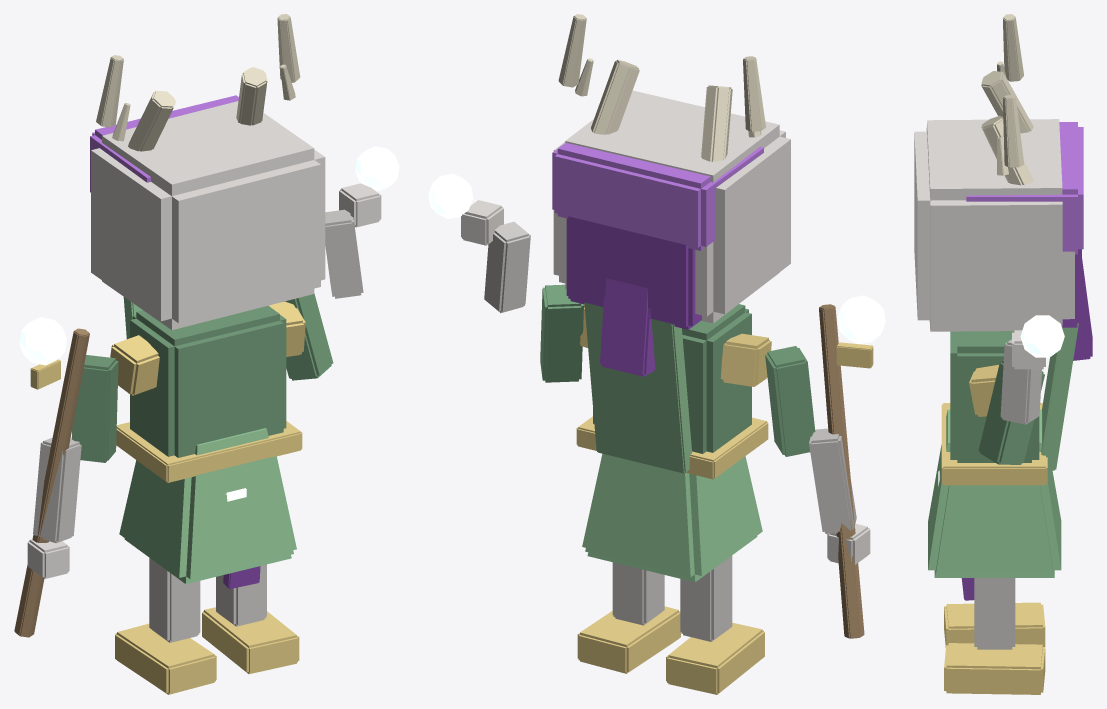
Rendered from hunters_chibi_druid.glb.
3 views of the same model, side by side, from view 1: azimuth 30°, elevation 25°; view 2: azimuth 150°, elevation 25°; view 3: azimuth 270°, elevation 25° (orthographic). The views are drawn at different scales.
Visible parts, largest first — view 1: hunters_chibi_druid; view 2: hunters_chibi_druid; view 3: hunters_chibi_druid.
Boxes of the visible parts, x1=… form: hunters_chibi_druid: x1=14, y1=14, x2=399, y2=694; hunters_chibi_druid: x1=428, y1=14, x2=885, y2=694; hunters_chibi_druid: x1=914, y1=14, x2=1092, y2=694.
Bounding box in the file's own units: 2.7 × 3.91 × 1.04.
